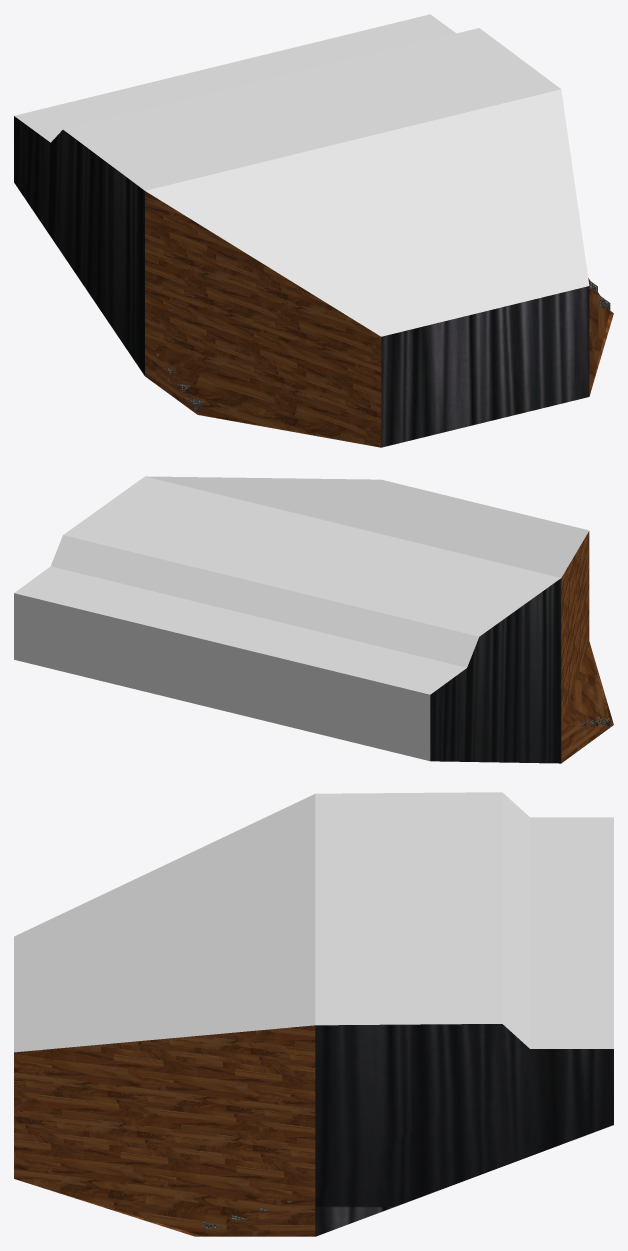
The model's file is LectureTheatre.gltf.
3 renders of one model, top to bottom at view 1: azimuth 30°, elevation 25°; view 2: azimuth 150°, elevation 25°; view 3: azimuth 270°, elevation 25°, orthographic. The views are drawn at different scales.
Visible parts, largest first — view 1: Plane; view 2: Plane; view 3: Plane.
Boxes of the visible parts, x1,y1,x2,y2 form: Plane: [14, 14, 613, 447]; Plane: [14, 476, 613, 763]; Plane: [14, 792, 613, 1236].
Bounding box in the file's own units: 19.64 × 8.42 × 21.5.
